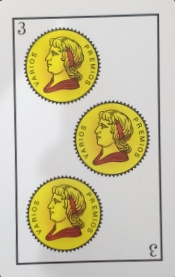3o: (11, 12, 161, 37)
